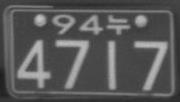1: (96, 40, 128, 90)
4: (16, 39, 51, 89), (79, 14, 103, 34)
7: (133, 39, 168, 90), (55, 38, 89, 89)
9: (51, 13, 75, 34)
누: (106, 13, 131, 35)
